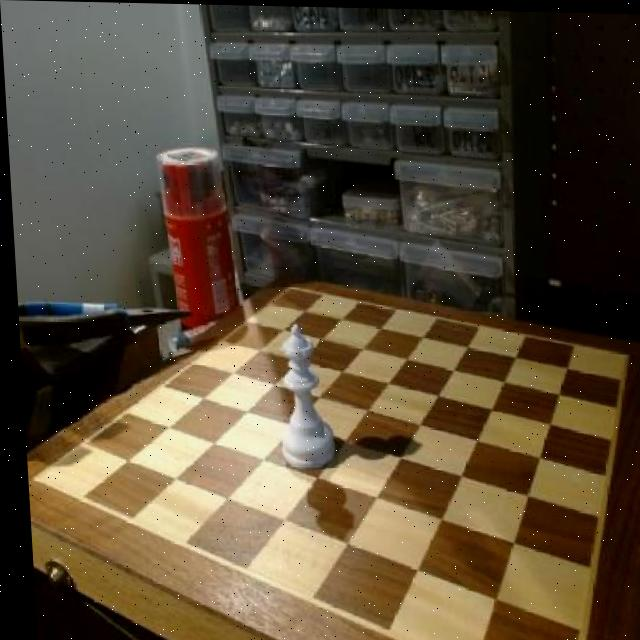white-pawn: (270, 321, 328, 469)
